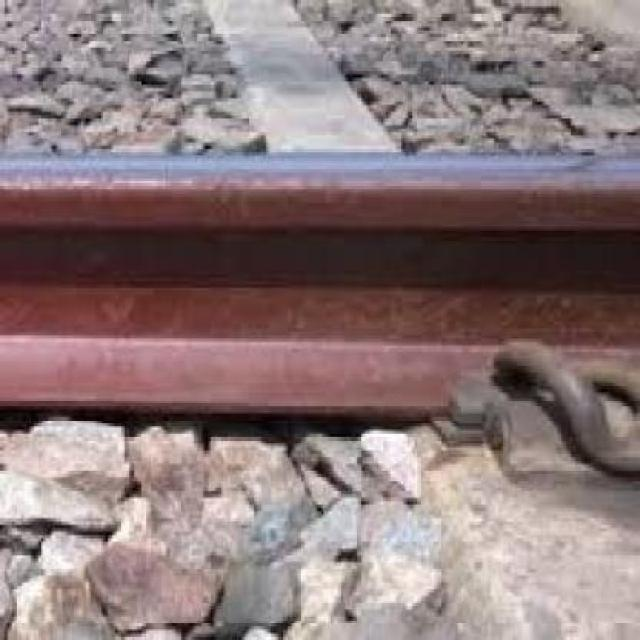non-defective: (13, 80, 640, 520)
